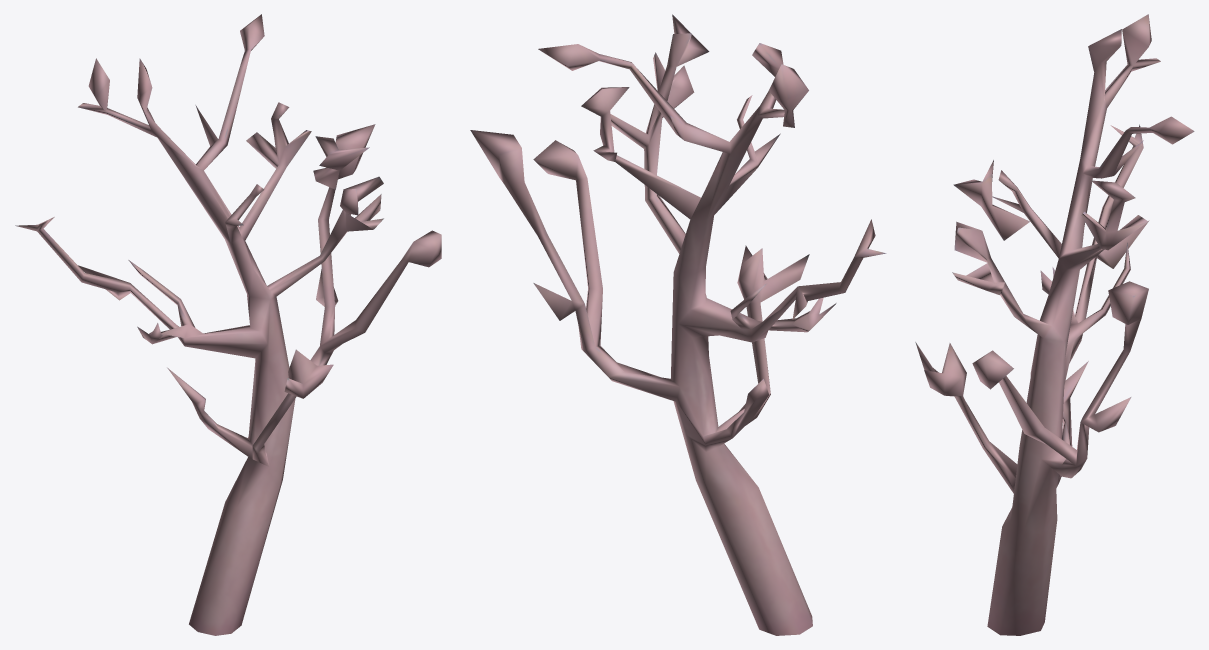
File: Meshy_AI_model_20261128_texture.fbx
3 renders of one model, left to right at view 1: azimuth 30°, elevation 25°; view 2: azimuth 150°, elevation 25°; view 3: azimuth 270°, elevation 25°, orthographic. The views are drawn at different scales.
Visible parts, largest first — view 1: geometry_0; view 2: geometry_0; view 3: geometry_0.
Boxes of the visible parts, x1,y1,x2,y2 form: geometry_0: (15,14,441,635); geometry_0: (470,14,886,635); geometry_0: (915,14,1194,635).
Size of the model in its own units: 70.05 by 100 by 43.52.
Materials: 1 (1 with a texture image).
